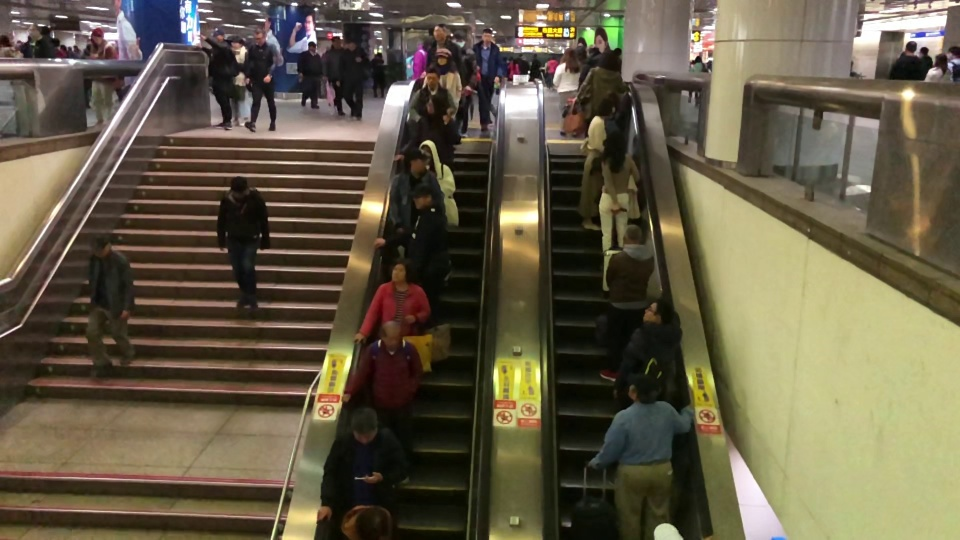person_head: (346, 403, 381, 446), (353, 502, 393, 536), (626, 371, 660, 407), (640, 297, 674, 326), (387, 252, 417, 284), (378, 319, 404, 353), (417, 137, 440, 172), (405, 144, 430, 176), (600, 132, 627, 161), (86, 233, 113, 260), (410, 183, 434, 209), (622, 222, 643, 250), (229, 174, 250, 200), (596, 50, 619, 70), (424, 92, 443, 116), (425, 65, 442, 89), (434, 45, 452, 67), (431, 23, 449, 42), (560, 47, 577, 67), (932, 50, 949, 69), (597, 98, 613, 118), (451, 30, 467, 49), (27, 22, 42, 40), (90, 26, 105, 44), (210, 25, 224, 43), (253, 27, 267, 45), (904, 39, 918, 56), (230, 35, 244, 50), (422, 36, 435, 52), (949, 42, 960, 60), (481, 28, 493, 44), (330, 34, 342, 49), (346, 37, 358, 52), (306, 39, 318, 53), (918, 46, 929, 56), (694, 57, 702, 63)
person_vbox: (586, 373, 695, 540), (341, 319, 423, 484), (314, 404, 406, 529), (375, 183, 447, 326), (600, 223, 657, 381), (214, 174, 271, 319), (610, 299, 682, 411), (85, 230, 136, 379), (353, 256, 430, 342), (419, 138, 460, 280), (598, 133, 640, 267), (393, 94, 461, 172), (390, 150, 444, 247), (579, 99, 616, 230), (197, 26, 239, 130), (574, 49, 623, 137), (84, 26, 121, 124), (244, 27, 278, 133), (471, 26, 504, 130), (421, 47, 464, 119), (407, 67, 456, 128), (551, 48, 581, 136), (340, 36, 369, 120), (322, 34, 350, 117), (228, 35, 252, 127), (424, 23, 462, 77), (297, 40, 323, 108), (451, 30, 476, 92), (20, 22, 56, 61), (888, 40, 922, 80), (405, 36, 433, 79), (686, 54, 709, 106), (924, 53, 952, 83), (917, 44, 933, 79), (946, 45, 959, 82)
